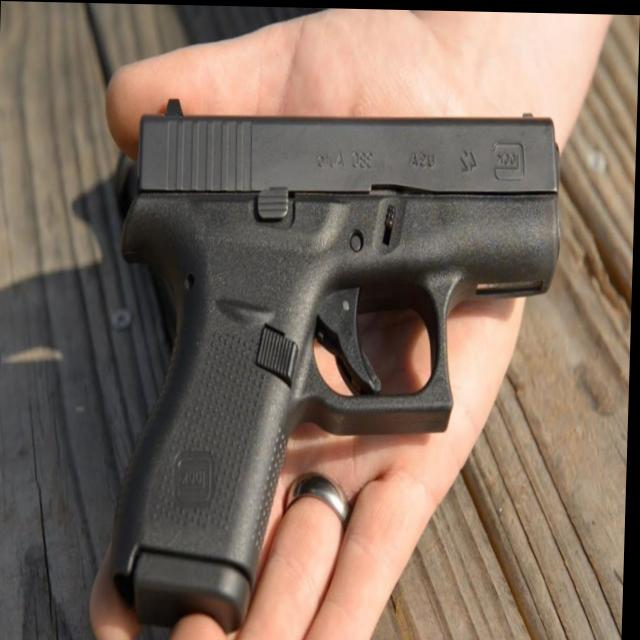handgun: (78, 91, 566, 630)
